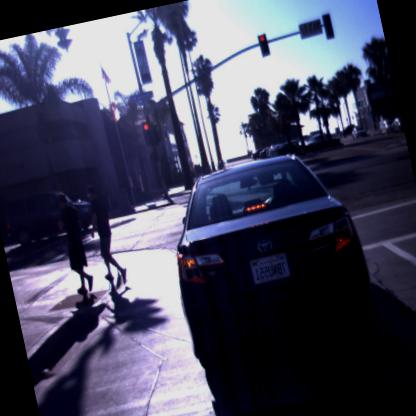trafficlight: (139, 118, 157, 148), (254, 31, 272, 58)
